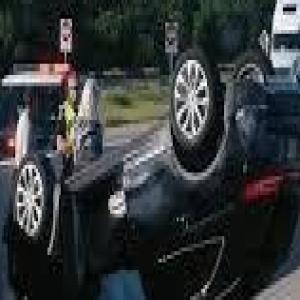critical: (2, 37, 300, 300)
